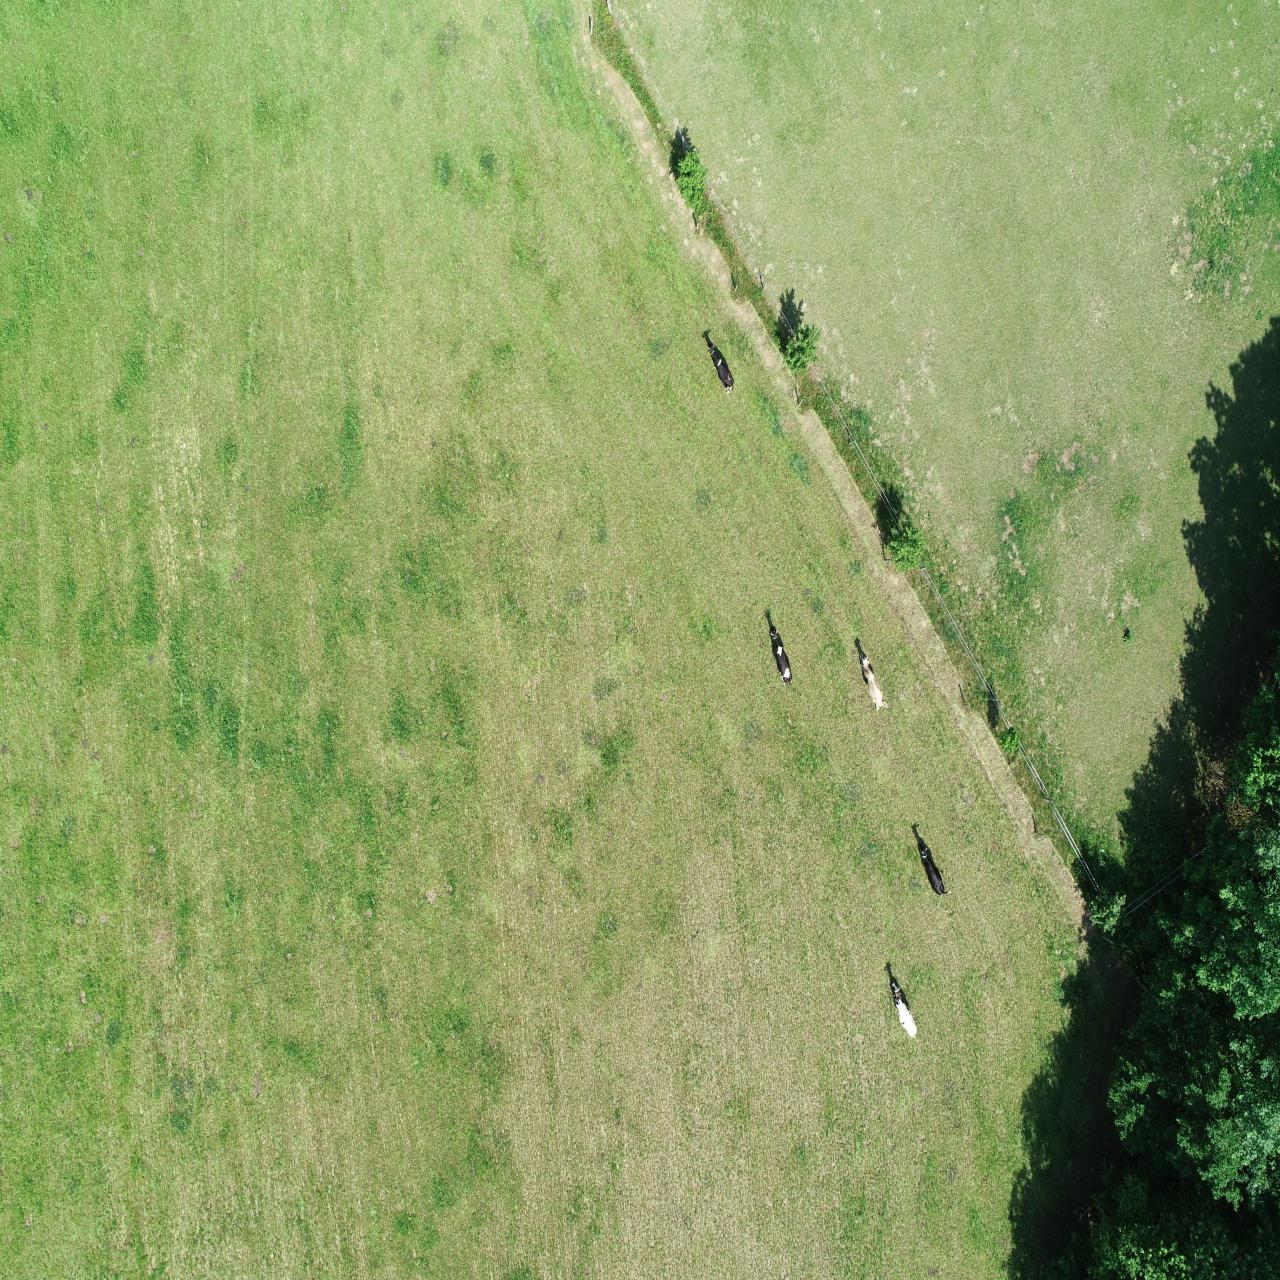cow: (913, 840, 956, 899), (887, 976, 921, 1041), (856, 652, 888, 713), (767, 624, 794, 689), (706, 341, 735, 395)
